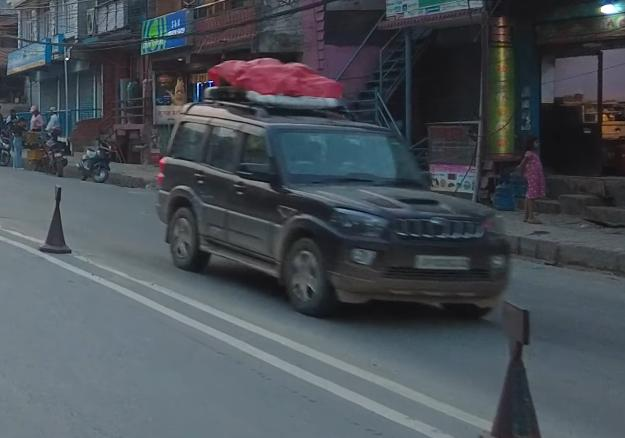SUV: (156, 81, 514, 318)
